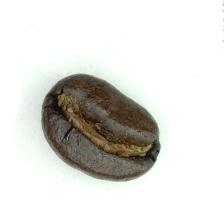NG: (60, 90, 155, 164)
